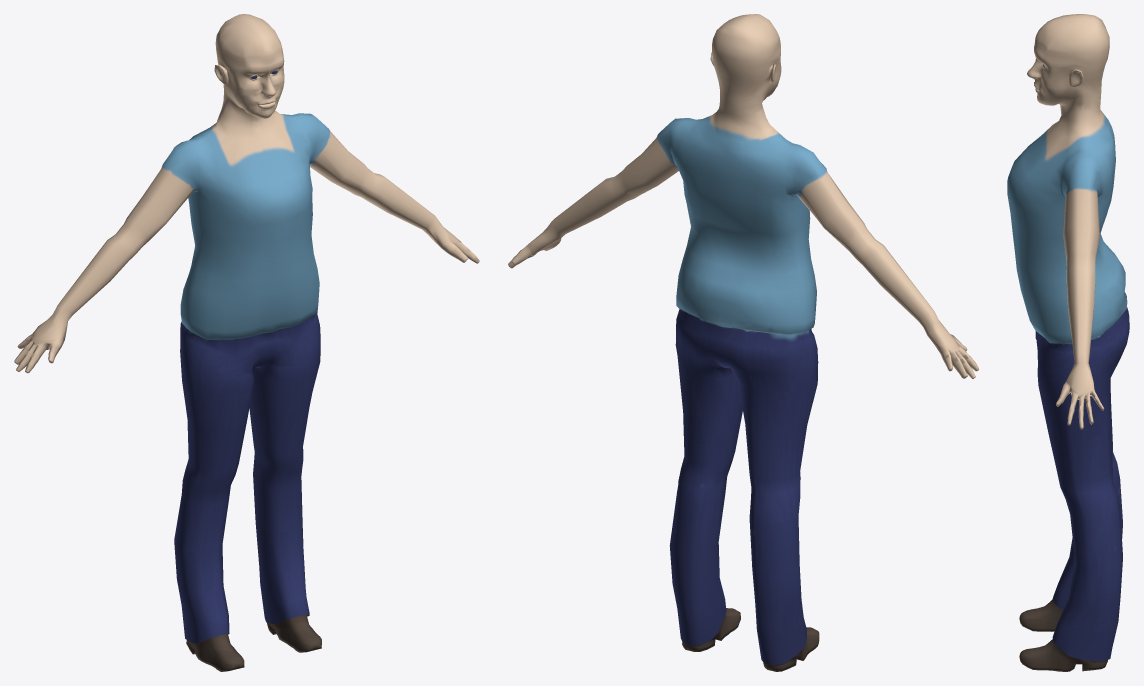
Rendered from Finished_Player_Model.fbx.
3 renders of one model, left to right at view 1: azimuth 30°, elevation 25°; view 2: azimuth 150°, elevation 25°; view 3: azimuth 270°, elevation 25°, orthographic.
Visible parts, largest first — view 1: Eye_left2; view 2: Eye_left2; view 3: Eye_left2.
Boxes of the visible parts, left/top/right/bottom form: Eye_left2: left=14, top=14, right=479, bottom=671; Eye_left2: left=508, top=14, right=978, bottom=671; Eye_left2: left=1007, top=14, right=1129, bottom=671.
Size of the model in its own units: 4.31 by 5.61 by 0.9861.
1 material, 1 textured.
